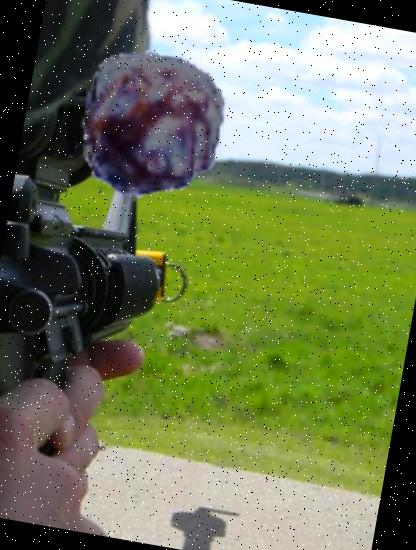Dates: (68, 38, 240, 212)
